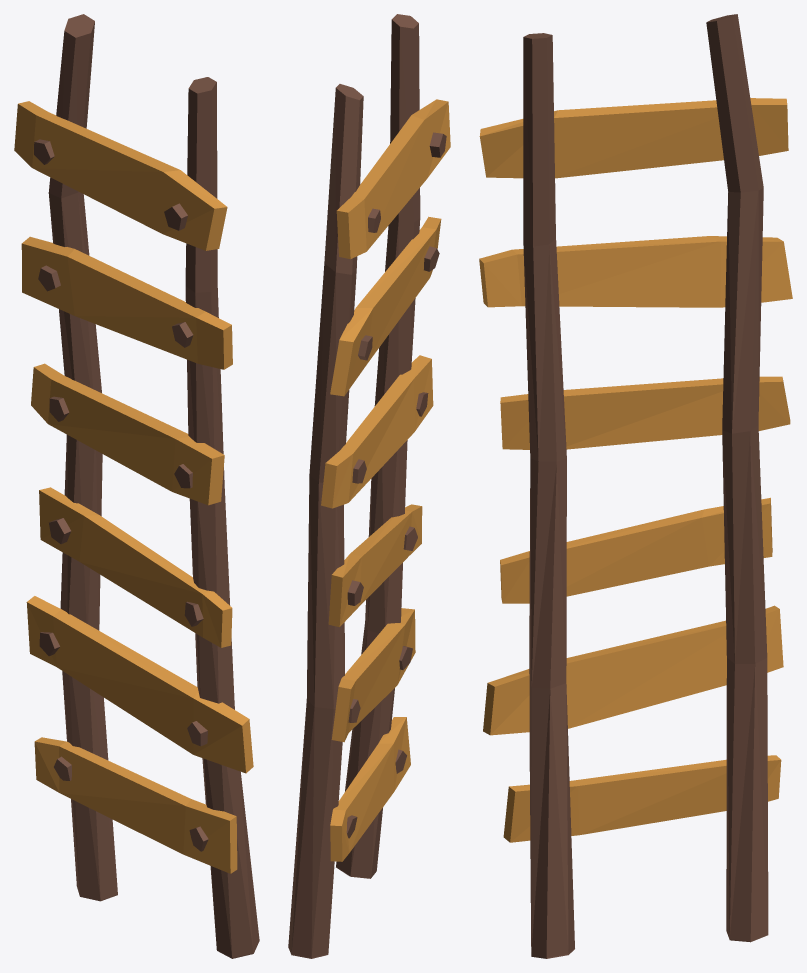
The model's file is Ladder.glb.
3 renders of one model, left to right at view 1: azimuth 30°, elevation 25°; view 2: azimuth 150°, elevation 25°; view 3: azimuth 270°, elevation 25°, orthographic. The views are drawn at different scales.
Visible parts, largest first — view 1: group2050458559; view 2: group2050458559; view 3: group2050458559.
Boxes of the visible parts, x1=… form: group2050458559: x1=14, y1=14, x2=259, y2=958; group2050458559: x1=288, y1=14, x2=450, y2=958; group2050458559: x1=479, y1=14, x2=792, y2=958.
Bounding box in the file's own units: 0.1279 × 0.8349 × 0.2615.
